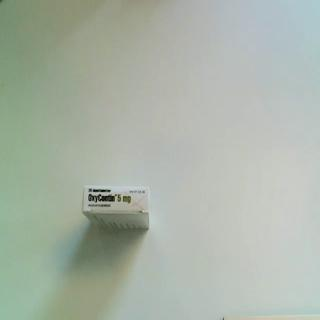oxycontin5mg: (82, 184, 153, 234)
